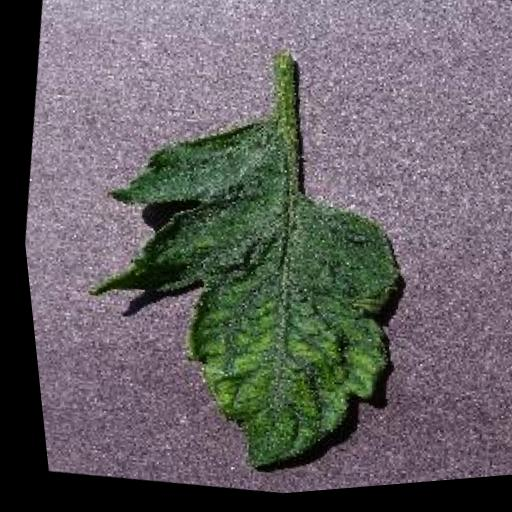Mosaic Virus: (36, 89, 437, 503)
